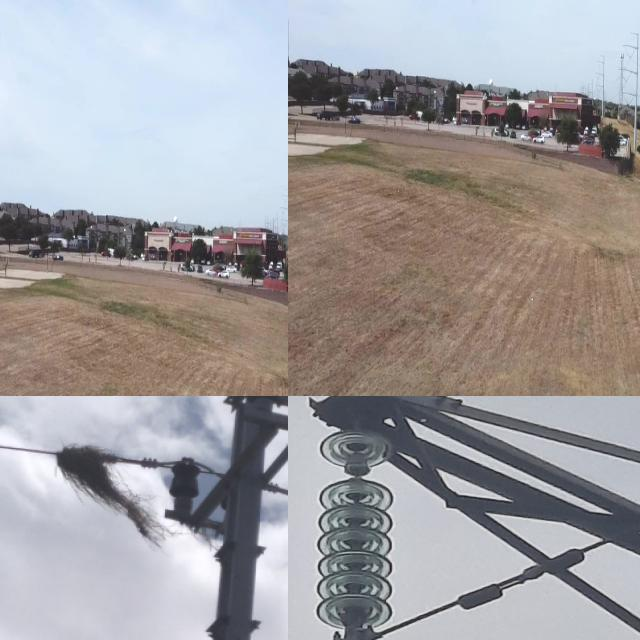植被遮挡: (47, 444, 185, 552)
正常电缆: (318, 560, 556, 640)
正常绝缘子: (304, 413, 394, 640)
绝缘子破损: (343, 462, 372, 478)
